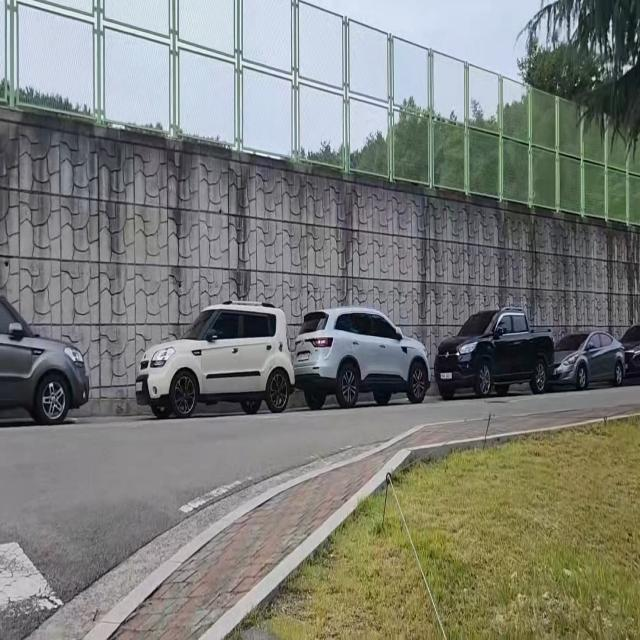obstacle: (135, 293, 298, 421), (0, 252, 95, 433), (288, 304, 438, 409)
road: (0, 393, 640, 637)
sidewalk: (93, 391, 640, 640)
